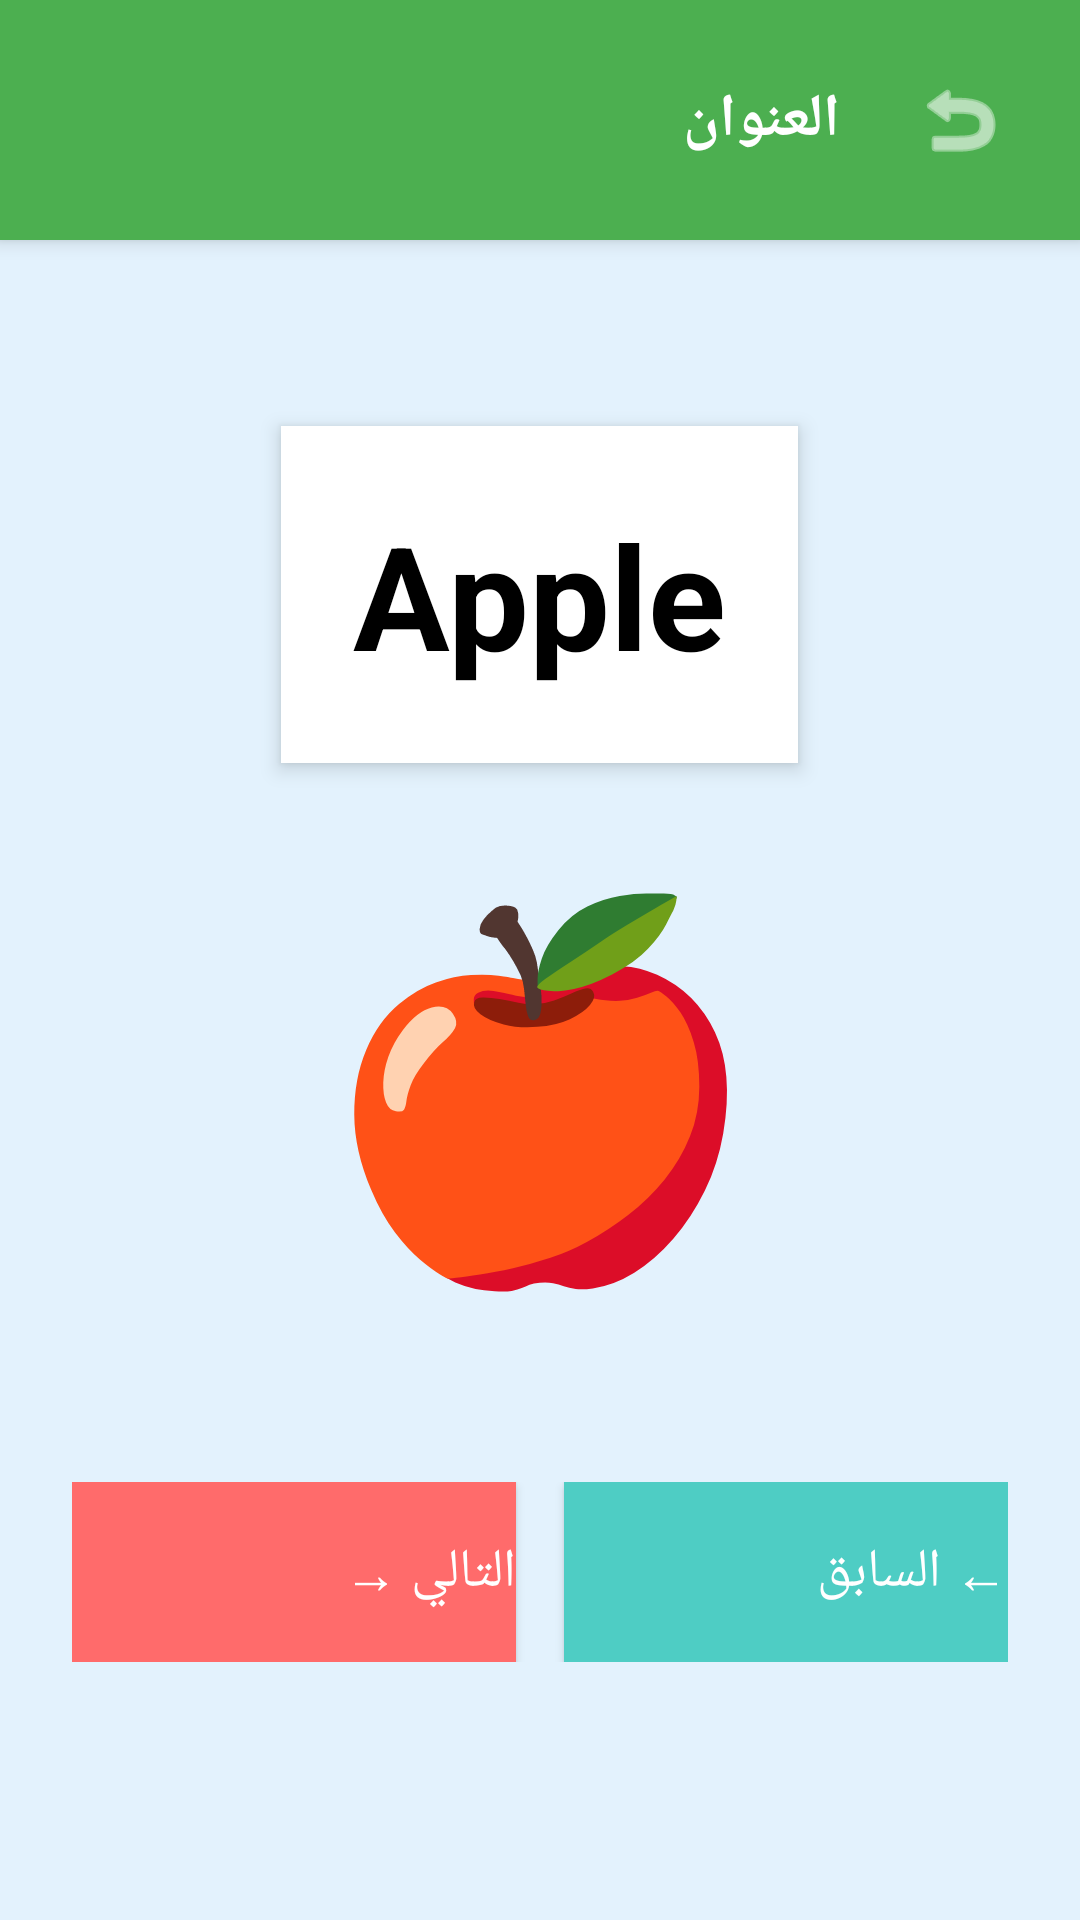

Where to tap for icons on this 1080w x 1920h app screen, as [x,y]:
رجوع: [961,120]
